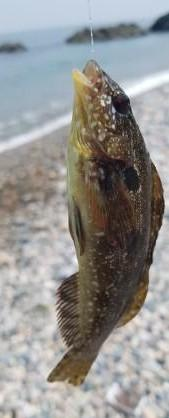fish: (48, 60, 164, 384)
